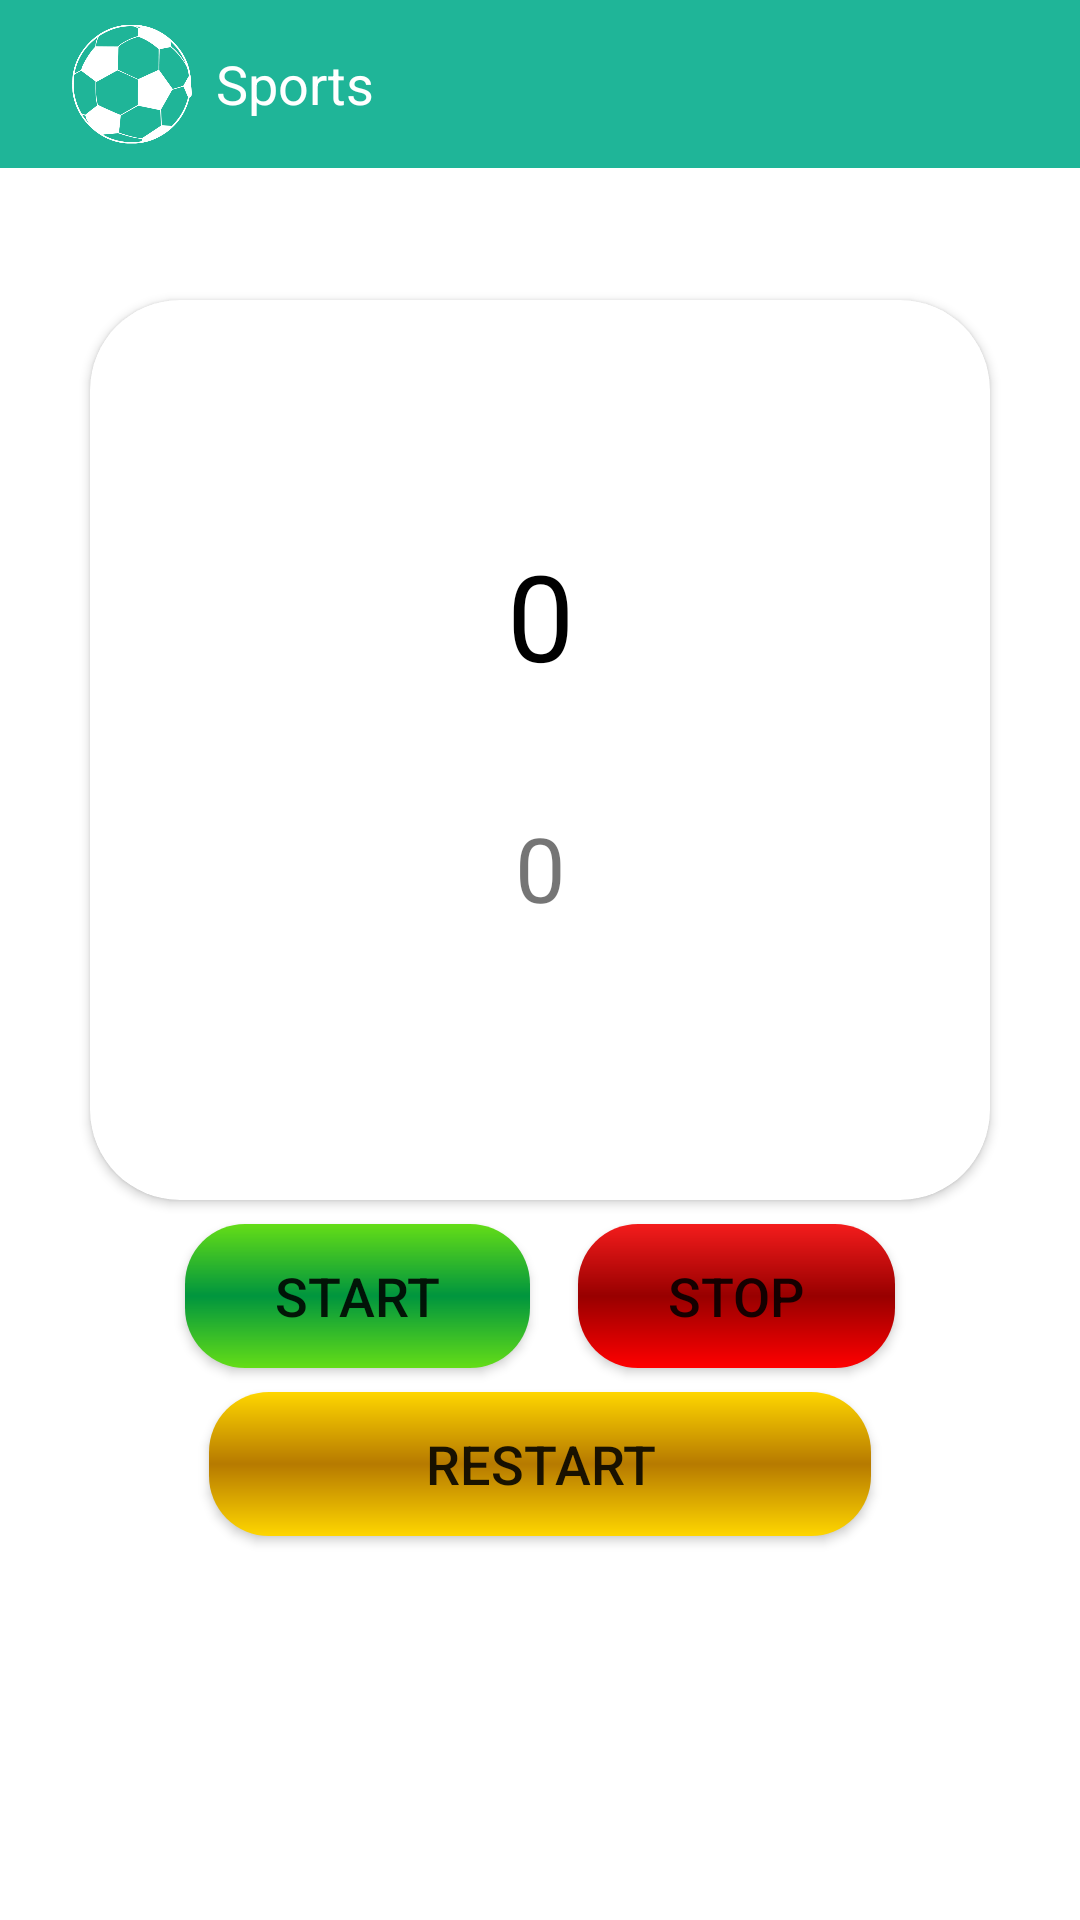

Screen size 1080px×1920px. Icon name, then its box in pixels as bbox=[x1, y1, x2, y2]:
soccer: bbox=[72, 25, 192, 144]
